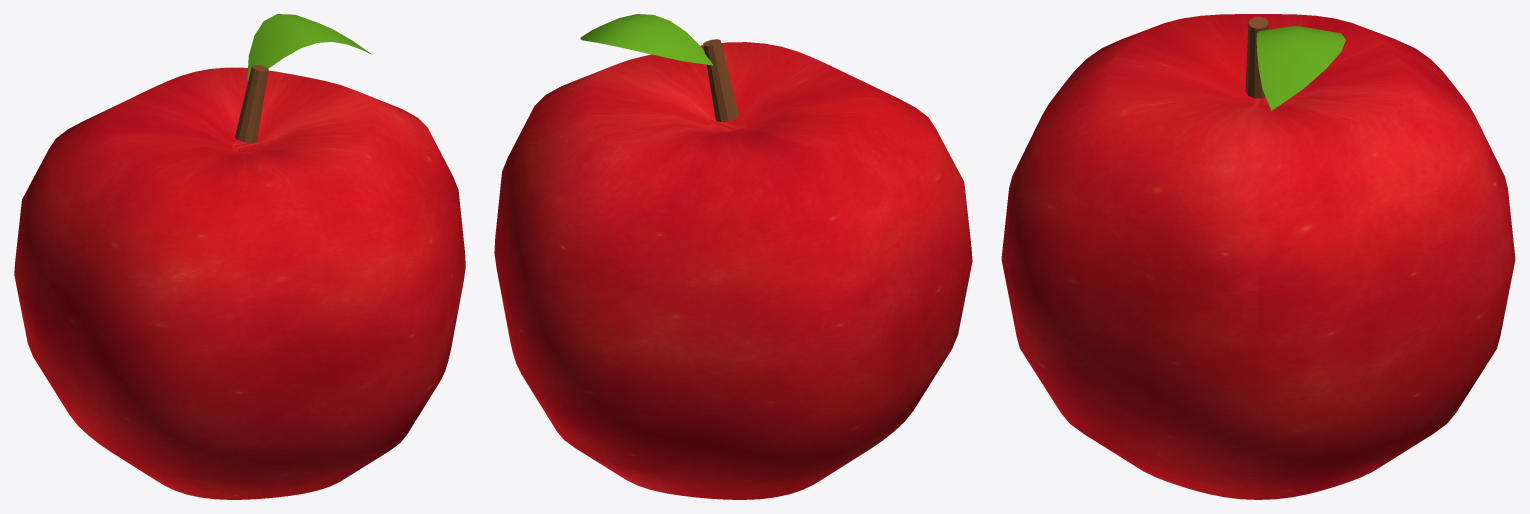
Rendered from apple-level02-BqHeIr6O.glb.
3 renders of one model, left to right at view 1: azimuth 30°, elevation 25°; view 2: azimuth 150°, elevation 25°; view 3: azimuth 270°, elevation 25°, orthographic. The views are drawn at different scales.
Visible parts, largest first — view 1: FLV5_L02_Apple; view 2: FLV5_L02_Apple; view 3: FLV5_L02_Apple.
Part boxes in pixels (left/top/right/bottom): FLV5_L02_Apple: left=14, top=14, right=465, bottom=499; FLV5_L02_Apple: left=494, top=14, right=972, bottom=499; FLV5_L02_Apple: left=1001, top=14, right=1515, bottom=499.
Size of the model in its own units: 1.36 by 1.4 by 1.38.
3 materials, 1 textured.
